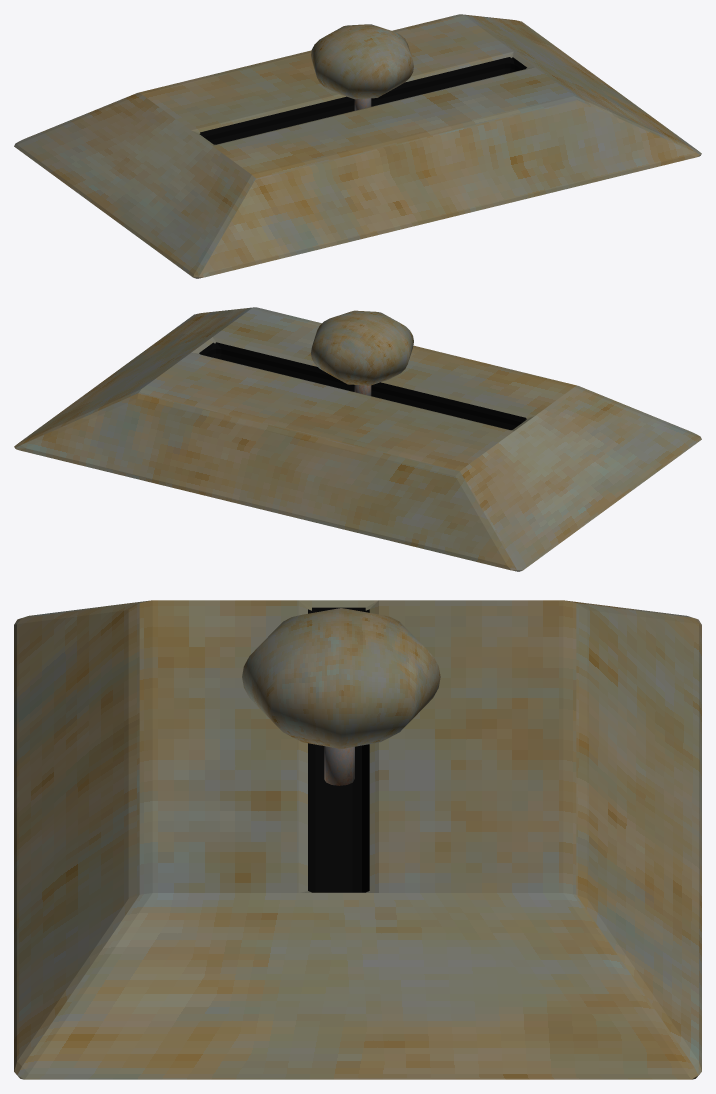
Rendered from lever2.gltf.
The picture shows the model from 3 angles, top to bottom: view 1: azimuth 30°, elevation 25°; view 2: azimuth 150°, elevation 25°; view 3: azimuth 270°, elevation 25°; orthographic projection. The views are drawn at different scales.
Parts seen in each view (by area): view 1: leverbox2-col, lever2handle-col; view 2: leverbox2-col, lever2handle-col; view 3: leverbox2-col, lever2handle-col.
Part boxes in pixels (left/top/right/bottom): leverbox2-col: left=14, top=14, right=701, bottom=278; lever2handle-col: left=311, top=24, right=413, bottom=110; leverbox2-col: left=14, top=307, right=701, bottom=571; lever2handle-col: left=311, top=310, right=413, bottom=395; leverbox2-col: left=14, top=600, right=701, bottom=1079; lever2handle-col: left=242, top=608, right=440, bottom=785.
Bounding box in the file's own units: 1.75 × 0.4038 × 1.1.
Materials: 2 (1 with a texture image).
